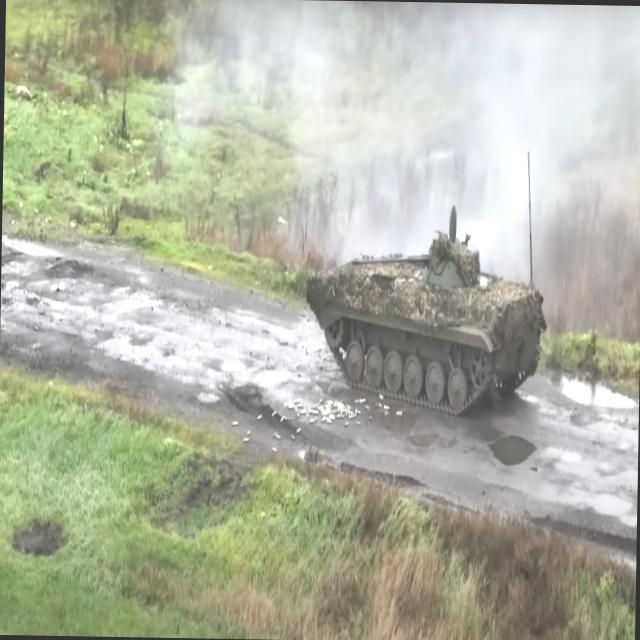AIFV: (302, 198, 549, 421)
